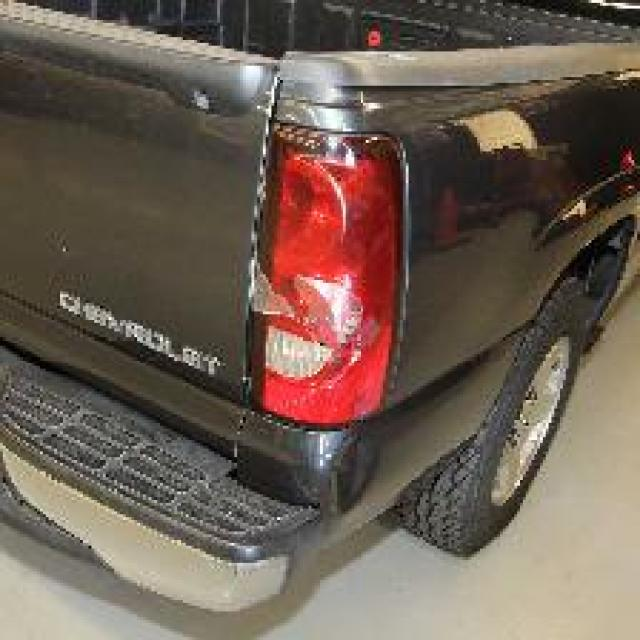tail_lamp_moderate: (251, 120, 403, 420)
